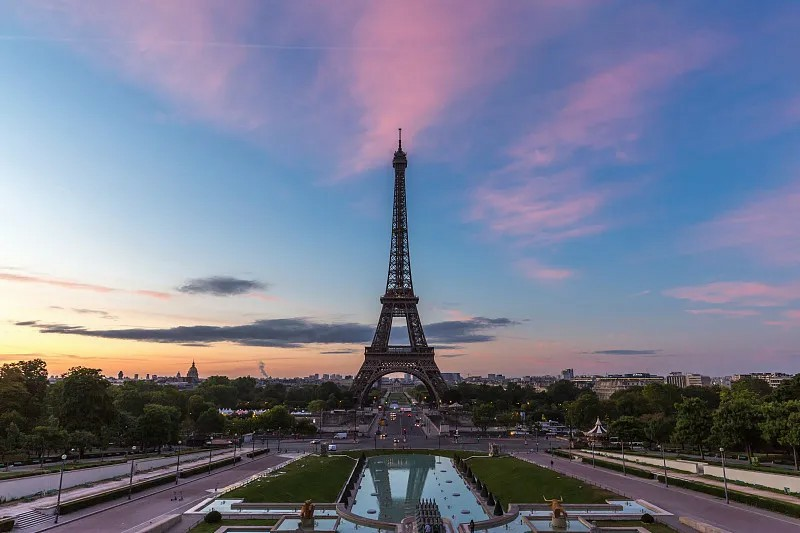Eiffel: (349, 128, 450, 410)
